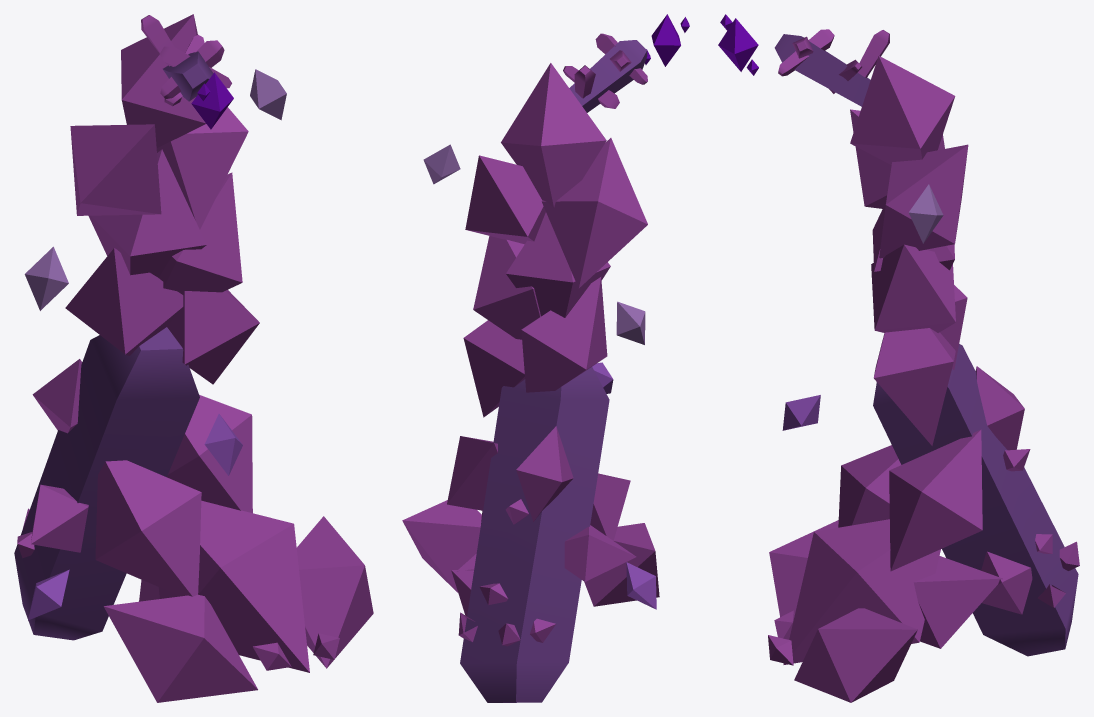
File: environment_diamond_tree_asset.fbx
3 renders of one model, left to right at view 1: azimuth 30°, elevation 25°; view 2: azimuth 150°, elevation 25°; view 3: azimuth 270°, elevation 25°, orthographic. The views are drawn at different scales.
Parts seen in each view (by area): view 1: polySurface20, polySurface21, flaoting_diamond1, floating_diamond3, floating_diamond2, flaoting_diamond4, orbited_diamond; view 2: polySurface20, polySurface21, flaoting_diamond4, flaoting_diamond1, orbited_diamond, floating_diamond2; view 3: polySurface20, polySurface21, orbited_diamond, floating_diamond2, floating_diamond3.
Part boxes in pixels (x1=…): polySurface20: x1=17, y1=14, x2=373, y2=702; polySurface21: x1=14, y1=51, x2=213, y2=640; flaoting_diamond1: x1=24, y1=246, x2=68, y2=310; floating_diamond3: x1=204, y1=414, x2=242, y2=475; floating_diamond2: x1=250, y1=69, x2=286, y2=120; flaoting_diamond4: x1=28, y1=569, x2=69, y2=620; orbited_diamond: x1=191, y1=72, x2=233, y2=129; polySurface20: x1=402, y1=33, x2=659, y2=646; polySurface21: x1=460, y1=40, x2=647, y2=702; flaoting_diamond4: x1=626, y1=562, x2=656, y2=609; flaoting_diamond1: x1=616, y1=301, x2=645, y2=344; orbited_diamond: x1=651, y1=14, x2=680, y2=66; floating_diamond2: x1=423, y1=144, x2=460, y2=184; polySurface20: x1=768, y1=29, x2=1079, y2=702; polySurface21: x1=774, y1=34, x2=1078, y2=656; orbited_diamond: x1=718, y1=18, x2=758, y2=71; floating_diamond2: x1=908, y1=184, x2=943, y2=243; floating_diamond3: x1=782, y1=395, x2=820, y2=430.
Bounding box in the file's own units: 9.89 × 21.06 × 10.96.
